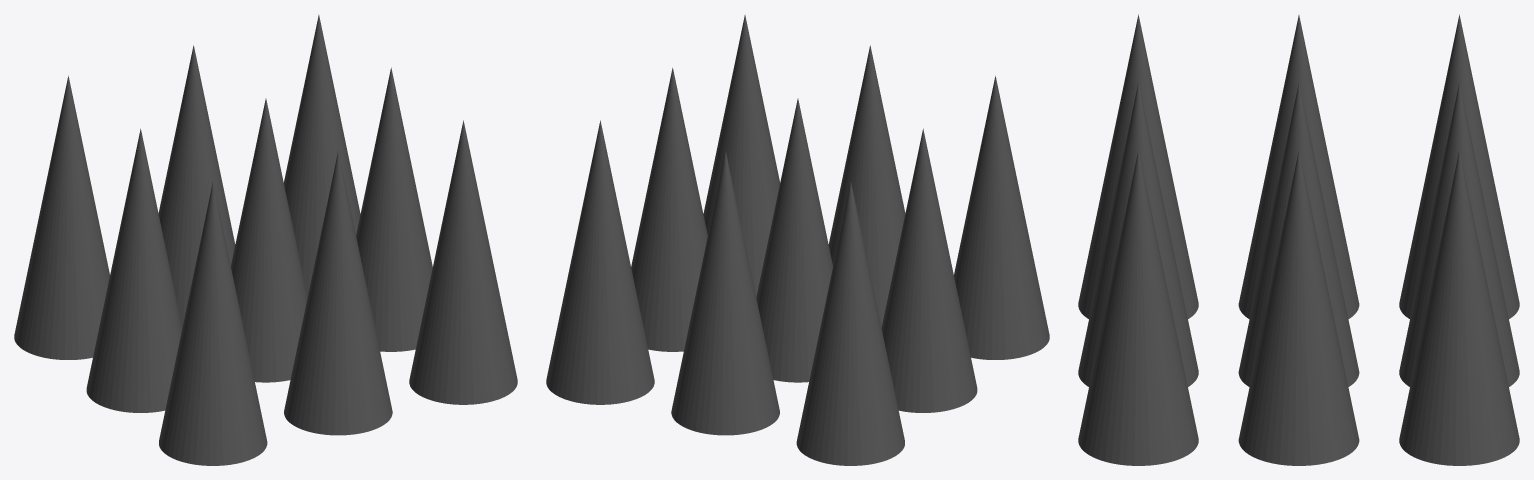
Rendered from Pinchos.fbx.
3 renders of one model, left to right at view 1: azimuth 30°, elevation 25°; view 2: azimuth 150°, elevation 25°; view 3: azimuth 270°, elevation 25°, orthographic. The views are drawn at different scales.
Visible parts, largest first — view 1: cone_1, cone_2, cone, cone_3, cone_4, cone_8, cone_7, cone_5, cone_6; view 2: cone_5, cone_4, cone_6, cone_3, cone_2, cone_8, cone_7, cone, cone_1; view 3: cone_7, cone, cone_6, cone_3, cone_8, cone_2, cone_4, cone_1, cone_5.
Part boxes in pixels (x1,y1,x2,y2): cone_1: [284, 151, 392, 435]; cone_2: [159, 181, 267, 465]; cone: [409, 120, 517, 404]; cone_3: [86, 128, 182, 412]; cone_4: [14, 75, 109, 359]; cone_8: [231, 98, 307, 382]; cone_7: [356, 67, 432, 351]; cone_5: [158, 45, 235, 327]; cone_6: [284, 14, 360, 296]; cone_5: [671, 151, 779, 435]; cone_4: [796, 181, 904, 465]; cone_6: [546, 120, 654, 404]; cone_3: [881, 128, 977, 412]; cone_2: [954, 75, 1049, 359]; cone_8: [756, 98, 832, 382]; cone_7: [631, 67, 707, 351]; cone: [703, 14, 779, 296]; cone_1: [828, 45, 905, 327]; cone_7: [1238, 150, 1359, 465]; cone: [1078, 150, 1198, 465]; cone_6: [1399, 150, 1519, 465]; cone_3: [1238, 15, 1359, 319]; cone_8: [1238, 83, 1359, 386]; cone_2: [1078, 14, 1198, 318]; cone_4: [1399, 14, 1519, 318]; cone_1: [1078, 82, 1198, 386]; cone_5: [1399, 82, 1519, 386].
Bounding box in the file's own units: 85.94 × 62.5 × 85.94.
Materials: 1 (1 with a texture image).
